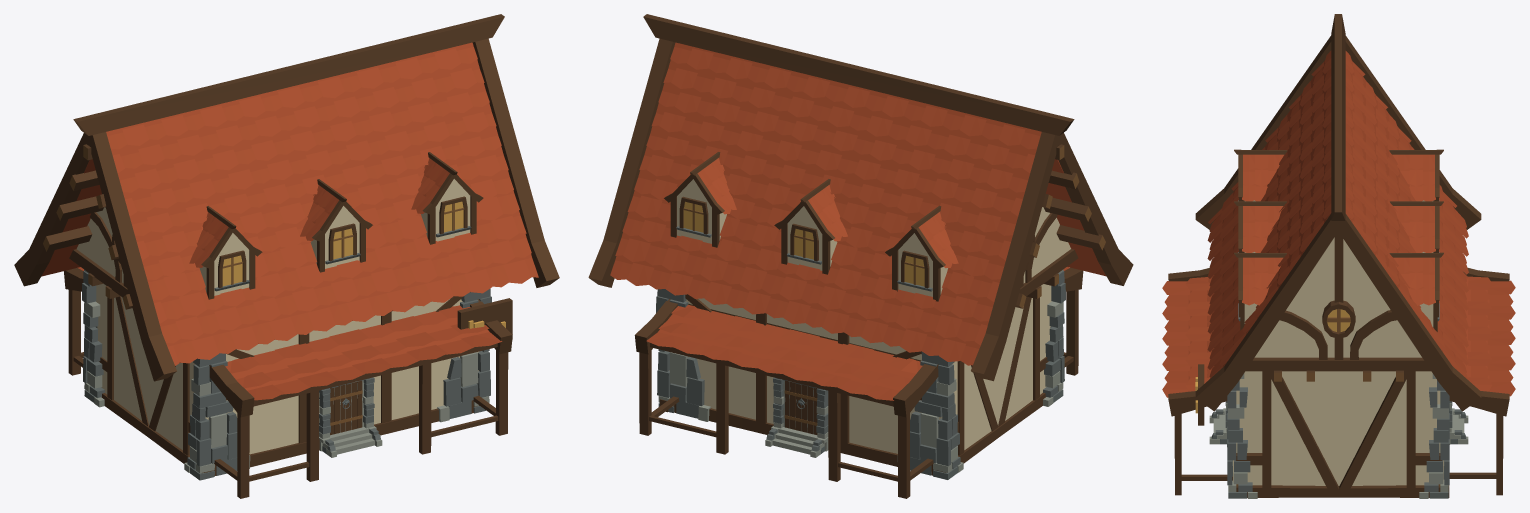
The model's file is inn.glb.
3 views of the same model, side by side, from view 1: azimuth 30°, elevation 25°; view 2: azimuth 150°, elevation 25°; view 3: azimuth 270°, elevation 25° (orthographic). The views are drawn at different scales.
Parts seen in each view (by area): view 1: inn; view 2: inn; view 3: inn.
Part boxes in pixels (box(x1,y1,x2,y2)): inn: box(14, 14, 559, 498); inn: box(588, 14, 1133, 498); inn: box(1162, 14, 1515, 498).
Bounding box in the file's own units: 12 × 9 × 9.
